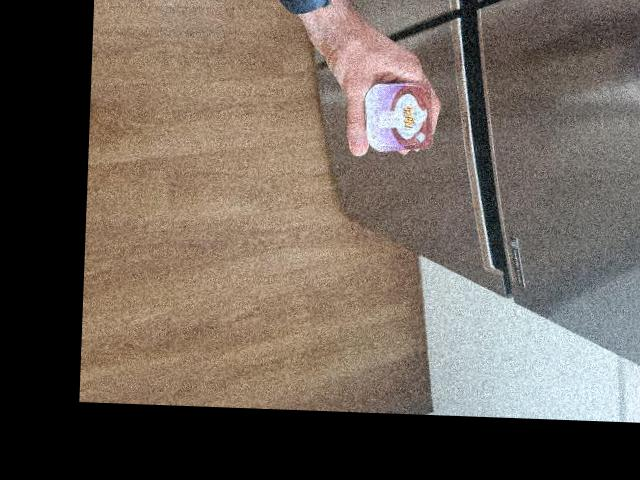milky: (361, 82, 434, 153)
